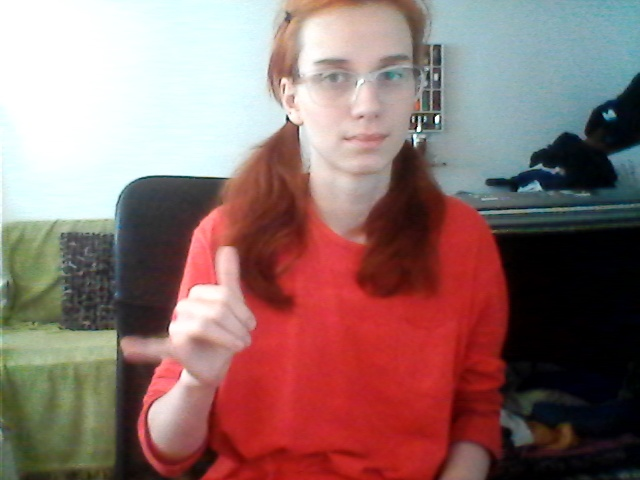ano: (113, 242, 274, 387)
